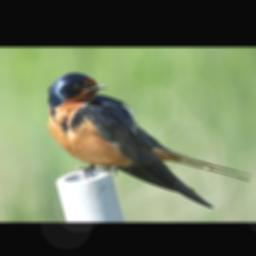Swallow: (45, 70, 252, 206)
